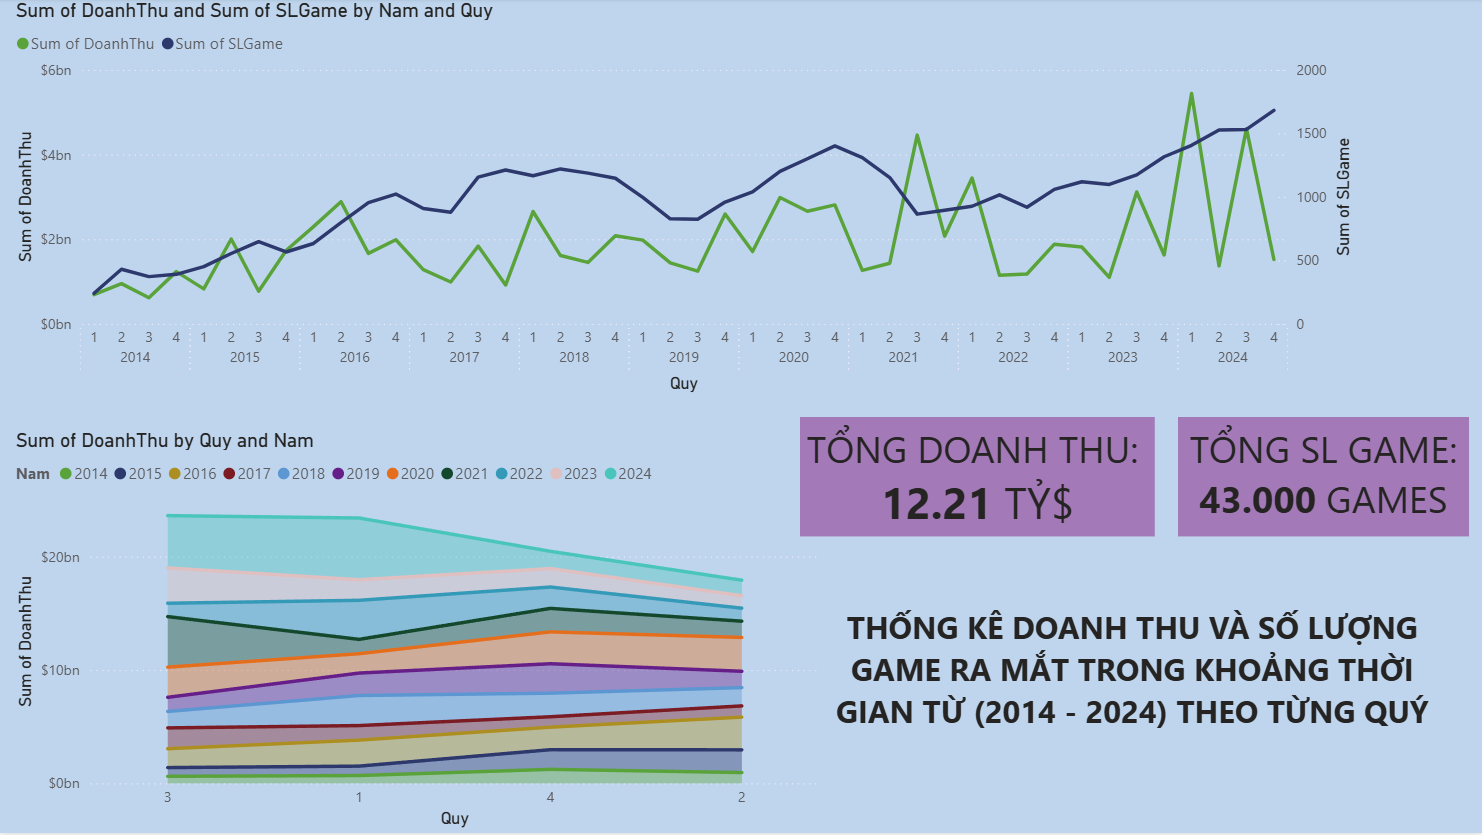

This screenshot's page, from the dashboard's own definition file:
{"tool":"powerbi","page":{"name":"Page 2","canvas":[1280,720],"ordinal":1},"visuals":[{"type":"lineChart","fields":{"Category":["Query2.Nam","Query2.Quy"],"Y":["Sum(Query2.DoanhThu)"],"Y2":["Sum(Query2.SLGame)"]},"box":[9.7,0,1161.6,345.4],"z":0},{"type":"stackedAreaChart","fields":{"Category":["Query2.Quy"],"Y":["Sum(Query2.DoanhThu)"],"Series":["Query2.Nam"]},"box":[9.7,371,702.3,349.8],"z":1000},{"type":"textbox","box":[702.7,519.1,549.1,120],"z":4000},{"type":"textbox","box":[690.9,361.8,306.4,102.7],"z":4001},{"type":"textbox","box":[1017.3,361.8,250.9,102.7],"z":4002}]}

Visuals, with their boxes in screenshot pixels (x1, y1, x2, y2), scaled from the page's 1280x720 canvas onto the 1482x835 screenshot:
lineChart - Query2.Nam x Query2.Quy: pyautogui.locateOnScreen(11, 0, 1356, 401)
stackedAreaChart - Query2.Quy x Sum(Query2.DoanhThu): pyautogui.locateOnScreen(11, 430, 824, 834)
textbox: pyautogui.locateOnScreen(814, 602, 1449, 741)
textbox: pyautogui.locateOnScreen(800, 420, 1155, 539)
textbox: pyautogui.locateOnScreen(1178, 420, 1468, 539)
